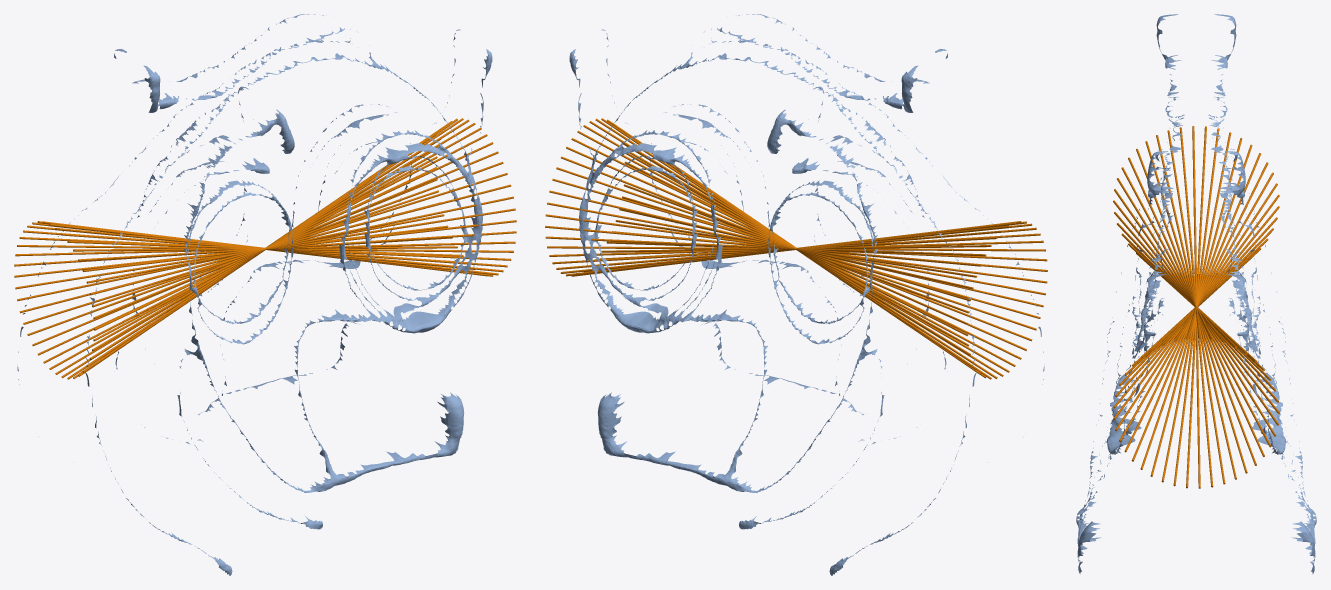
The model's file is A60025764_6150-37-520-1794_DigitalTwin.glb.
3 views of the same model, side by side, from view 1: azimuth 30°, elevation 25°; view 2: azimuth 150°, elevation 25°; view 3: azimuth 270°, elevation 25° (orthographic). The views are drawn at different scales.
Visible parts, largest first — view 1: world; view 2: world; view 3: world.
Boxes of the visible parts, x1,y1,x2,y2 form: world: [14, 14, 516, 575]; world: [545, 14, 1047, 575]; world: [1076, 14, 1316, 574].
Size of the model in its own units: 929 by 1019 by 445.
